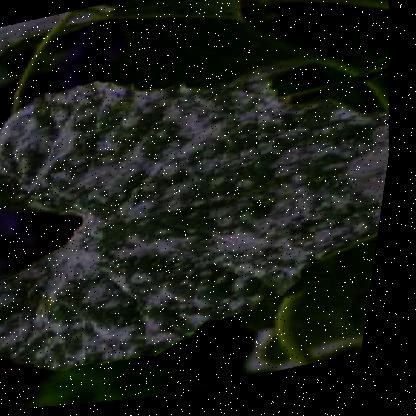PowderyMildew: (151, 125, 398, 287), (27, 231, 220, 362), (28, 97, 214, 202)
